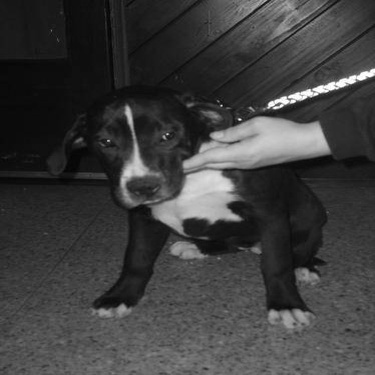dog: (41, 82, 331, 334)
